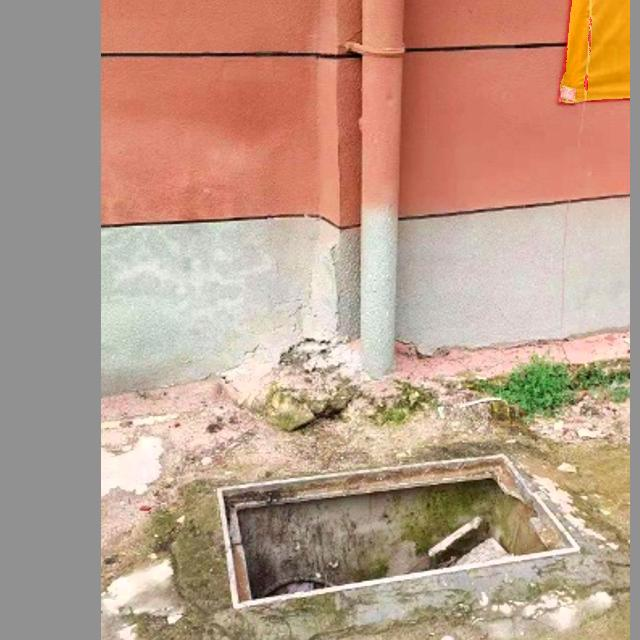lose: (213, 453, 578, 608)
